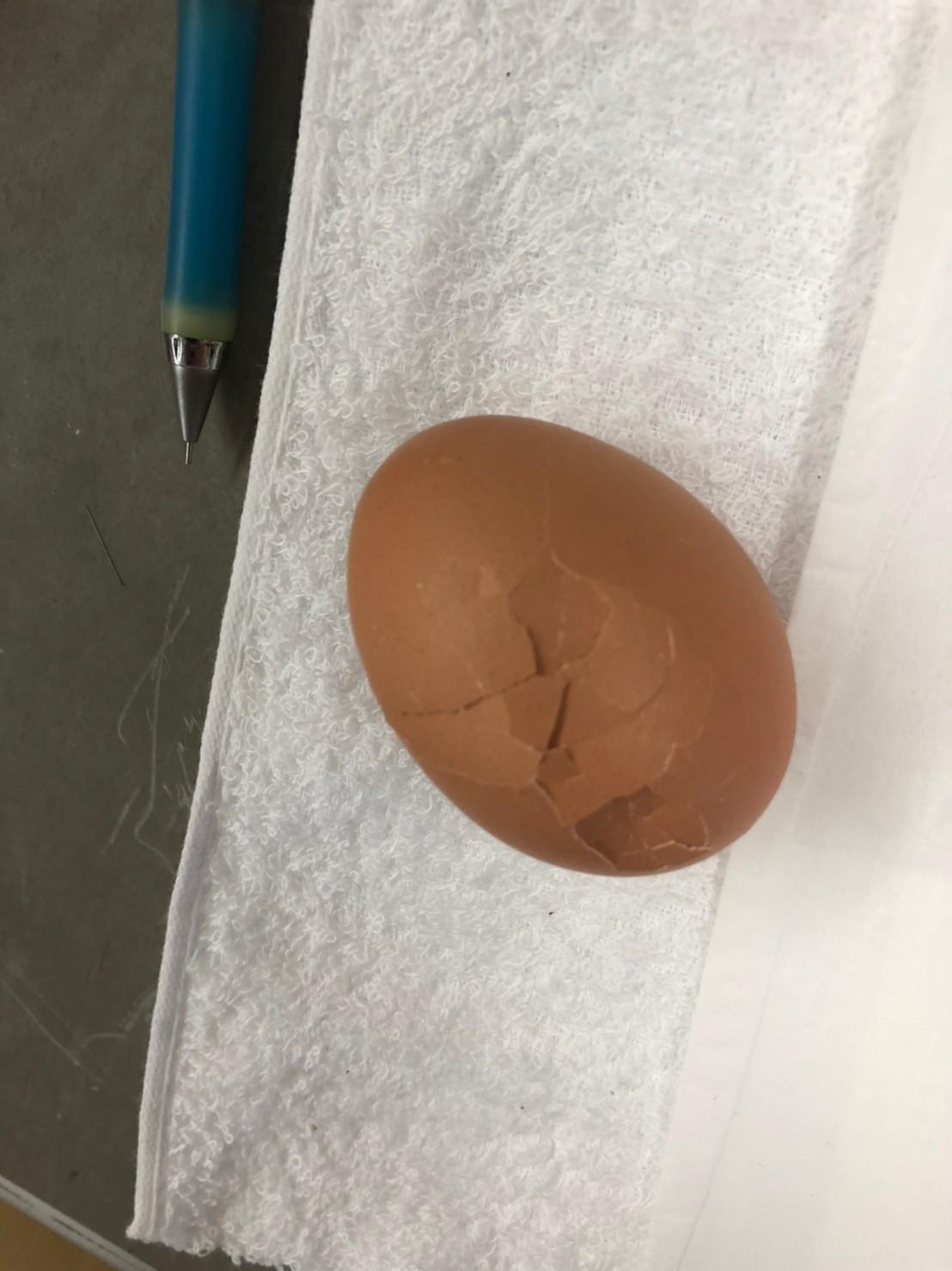egg: (339, 408, 801, 885)
